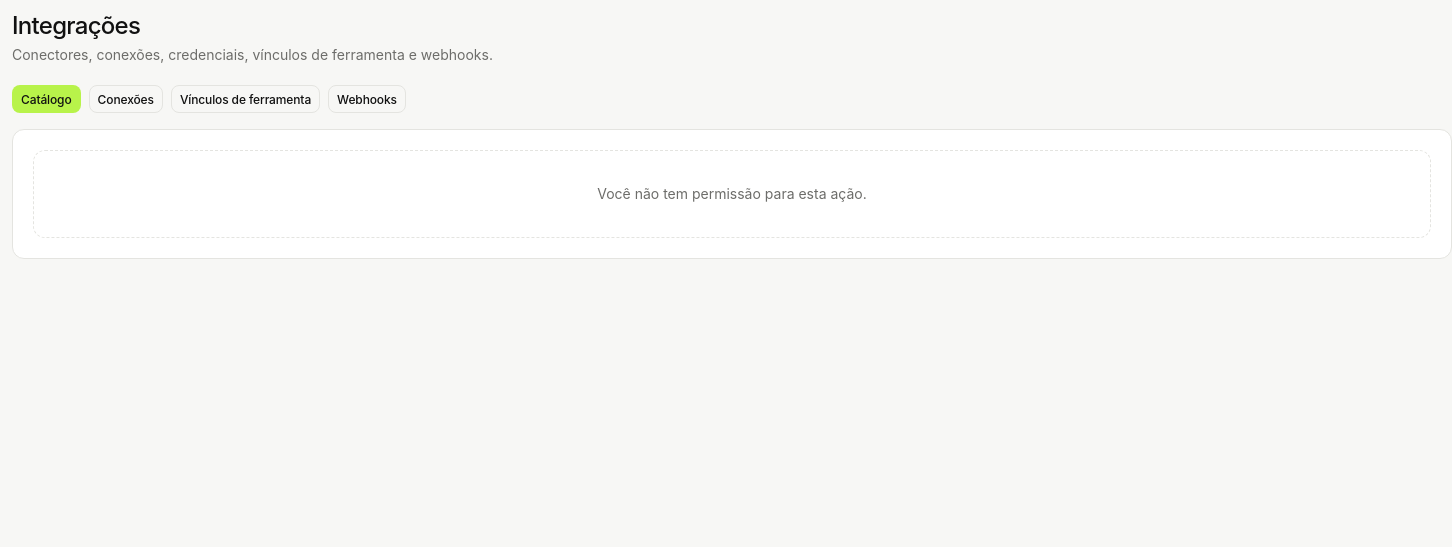
Test: IntegrationsPage — conexões › mostra estado vazio quando não há conexões
What coordinates should you click on to do the following:
click the tab "Conexões"
I would click on:
 (126, 99)
Its box is [89,85,163,113].
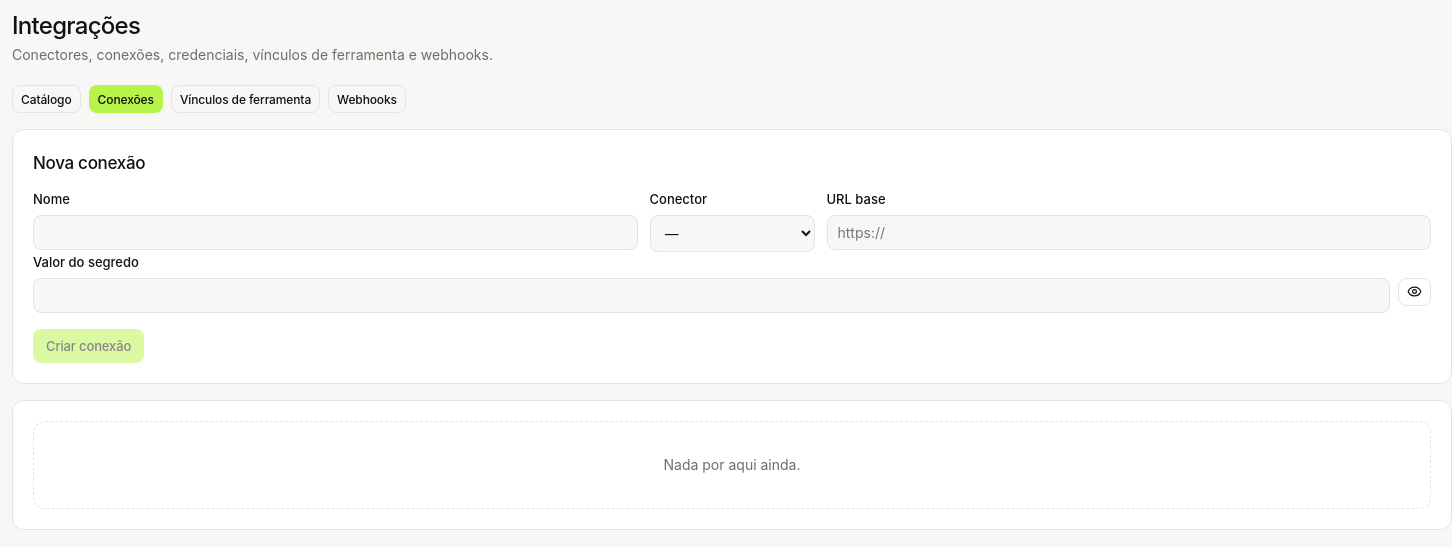
Check: the text "Nada por aqui ainda." is shown, box [33,421,1431,509]
